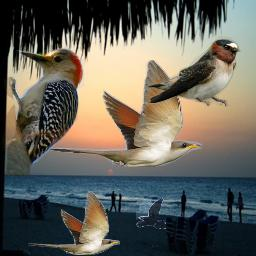Crow: (136, 197, 166, 229)
Cuckoo: (48, 60, 202, 167), (28, 191, 120, 255)
Swallow: (146, 36, 243, 108)
Woodpecker: (2, 42, 100, 176)
